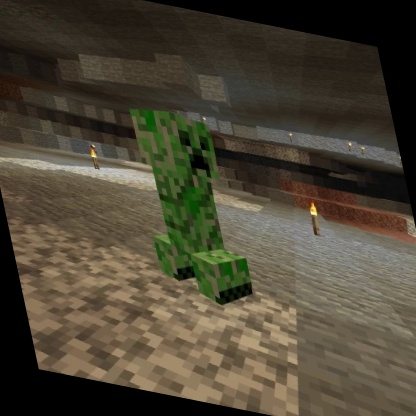creeper: (122, 99, 262, 316)
